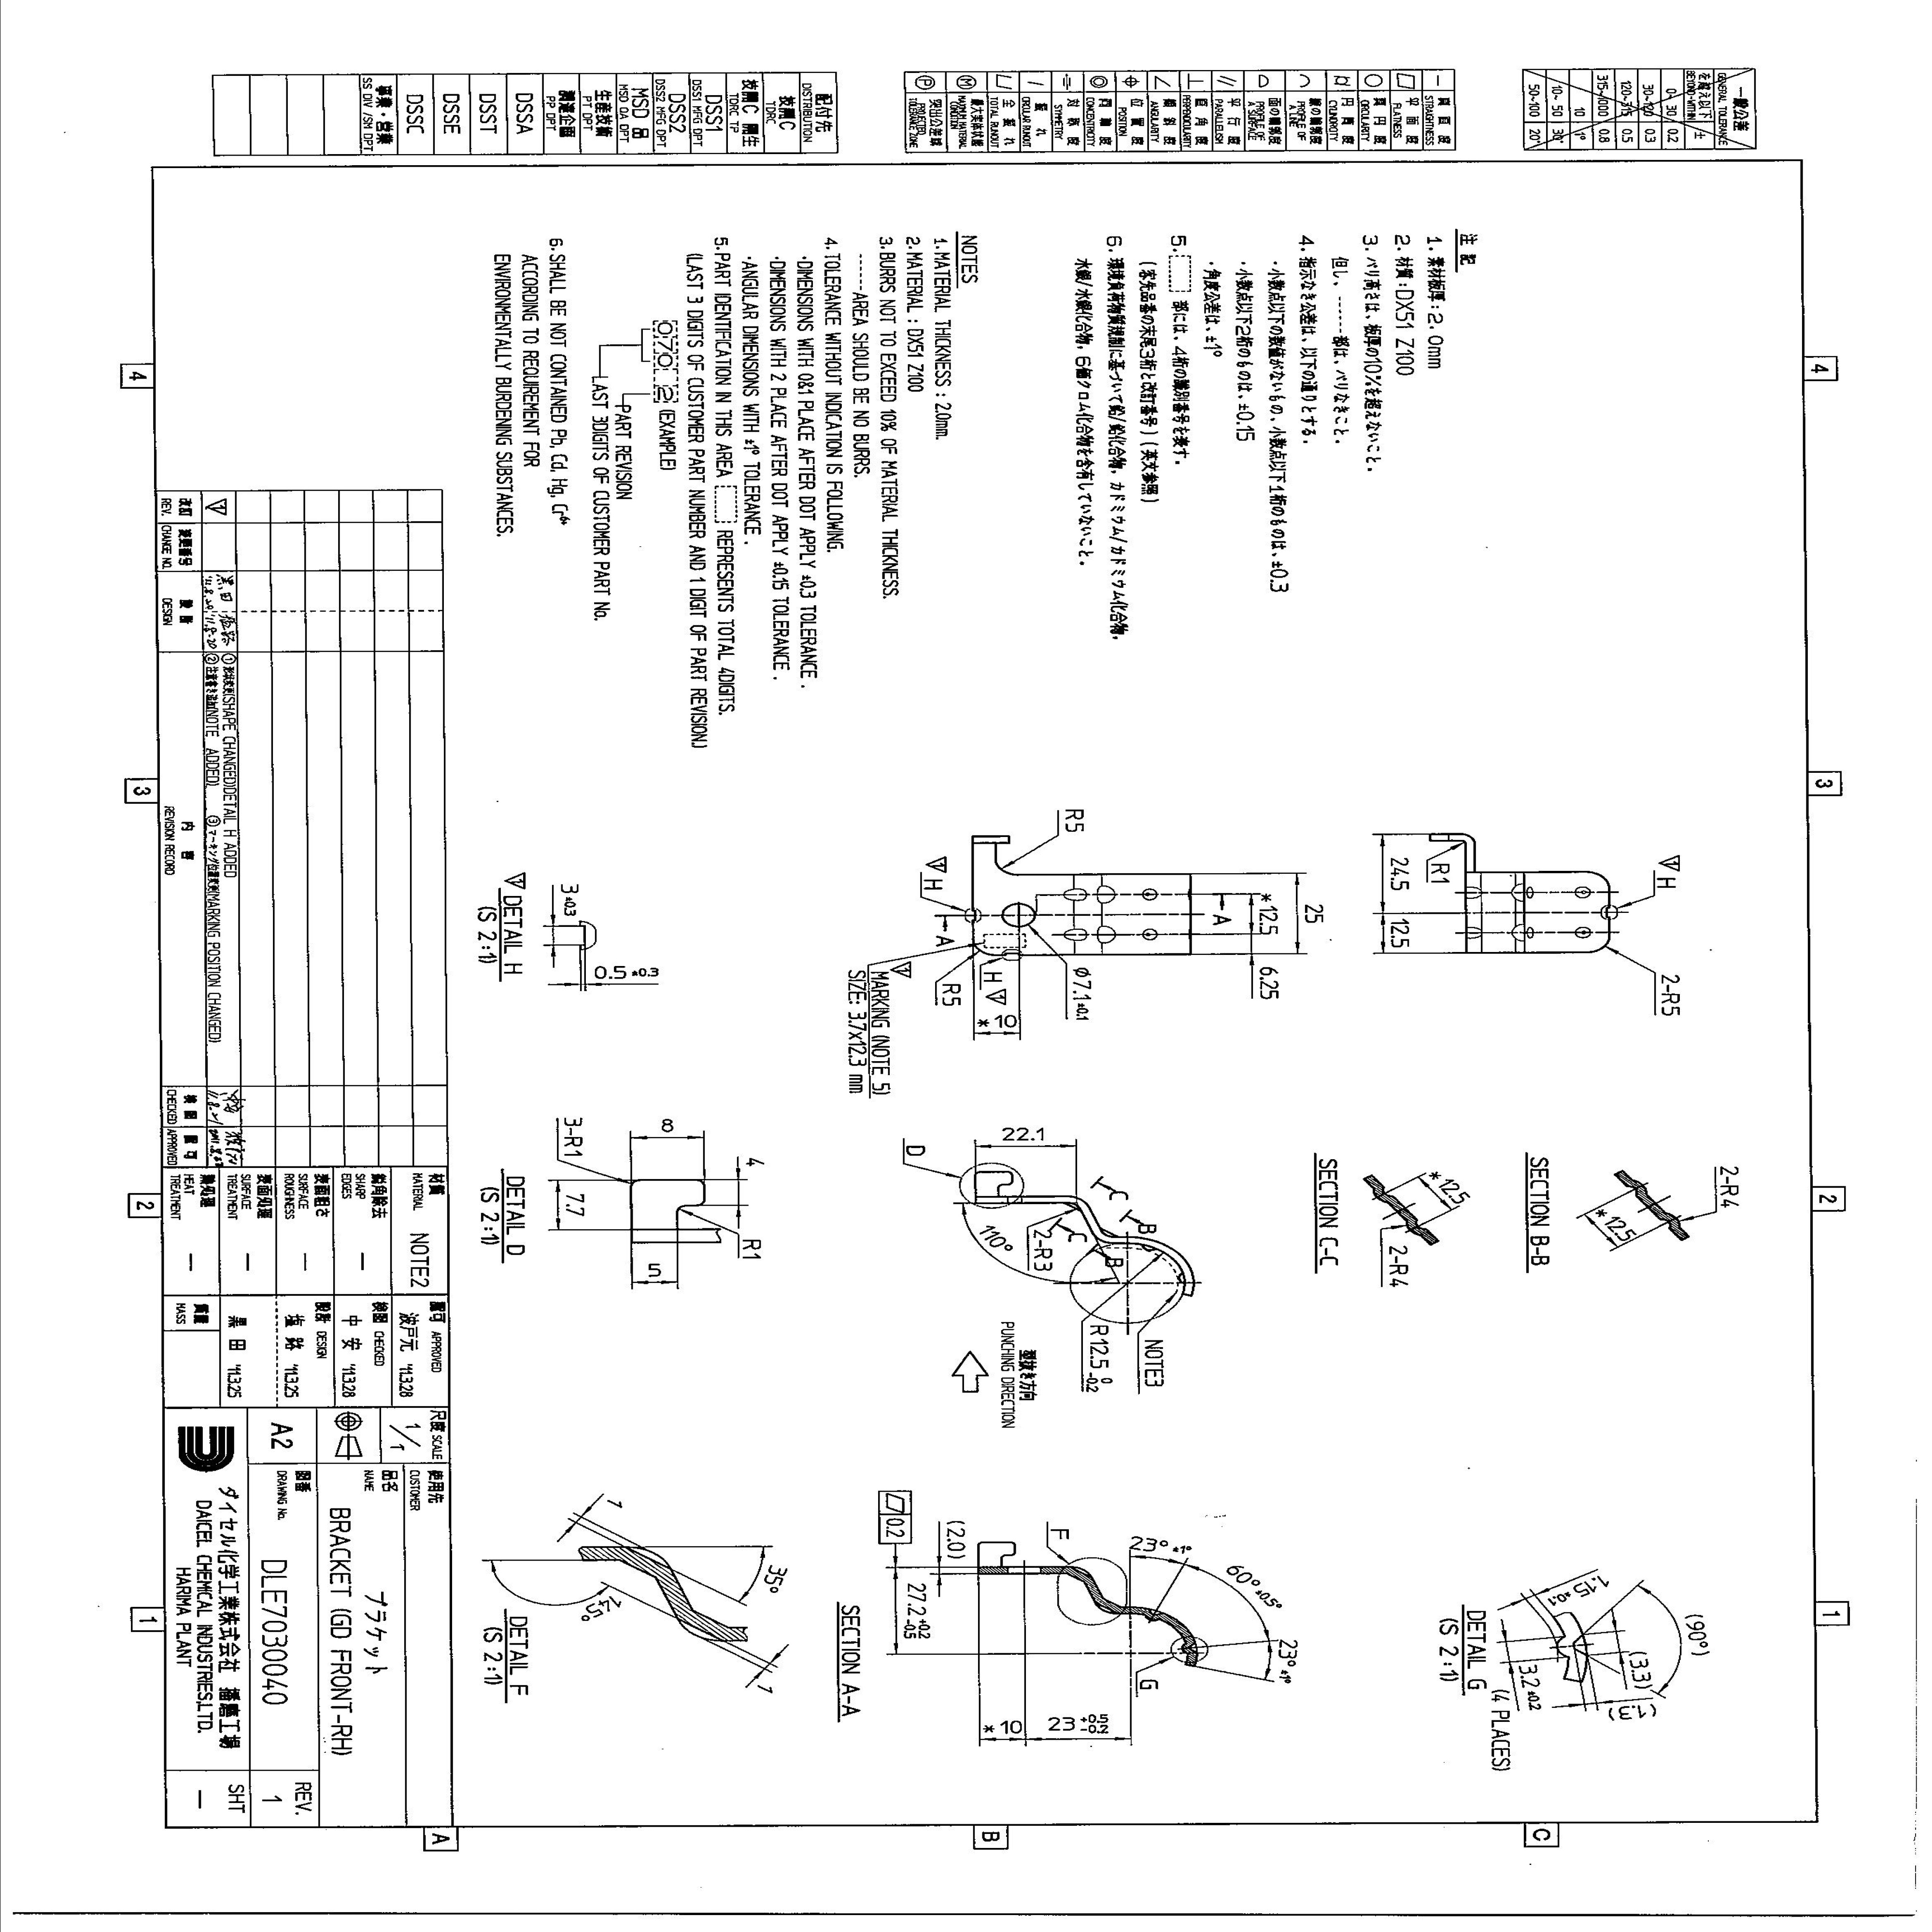InnerContour: (1000, 902, 1039, 929)
Notch: (970, 908, 978, 924), (1003, 950, 1023, 957), (1605, 906, 1612, 920)
